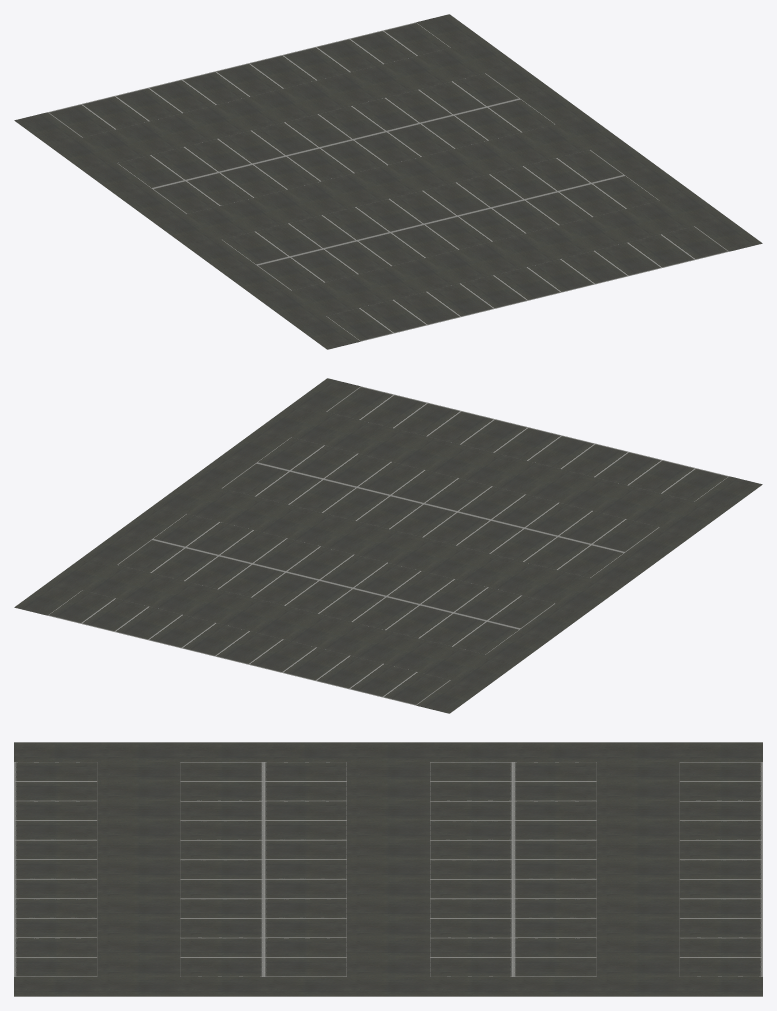
File: uploads_files_5235776_env_parking (1).fbx
The picture shows the model from 3 angles, top to bottom: view 1: azimuth 30°, elevation 25°; view 2: azimuth 150°, elevation 25°; view 3: azimuth 270°, elevation 25°; orthographic projection. The views are drawn at different scales.
Parts seen in each view (by area): view 1: env_parking_lot; view 2: env_parking_lot; view 3: env_parking_lot.
Part boxes in pixels (<box>): env_parking_lot: <box>14,14,762,349</box>; env_parking_lot: <box>14,378,762,713</box>; env_parking_lot: <box>14,742,762,996</box>.
Size of the model in its own units: 32.5 by 9.38e-10 by 40.5.
